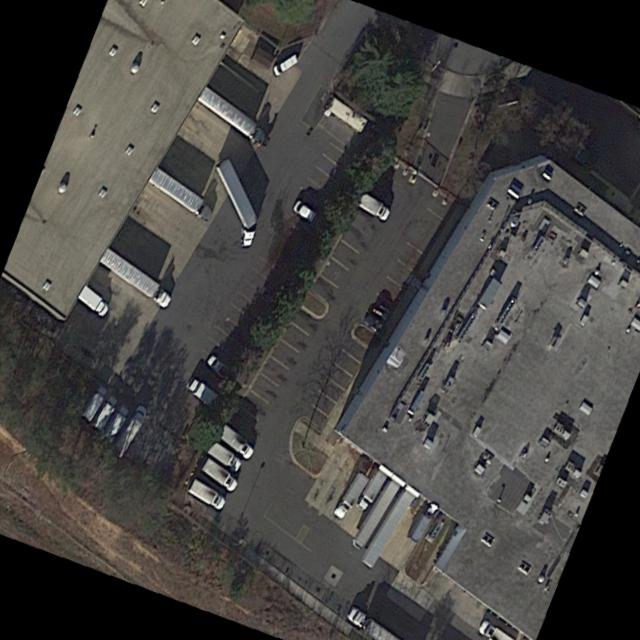large-vehicle: (212, 155, 264, 252), (146, 162, 220, 225), (97, 247, 173, 308), (196, 86, 266, 147), (323, 90, 372, 134), (110, 404, 147, 458), (345, 605, 398, 640), (330, 470, 367, 519), (198, 454, 238, 493), (203, 438, 243, 474), (217, 423, 252, 460), (186, 478, 225, 511), (75, 283, 109, 316), (270, 46, 300, 80), (355, 192, 389, 220), (477, 619, 514, 640)
small-vehicle: (353, 463, 388, 514), (99, 399, 132, 444), (89, 391, 119, 432), (77, 382, 108, 421), (288, 196, 321, 226), (361, 308, 388, 335), (369, 299, 394, 320)
